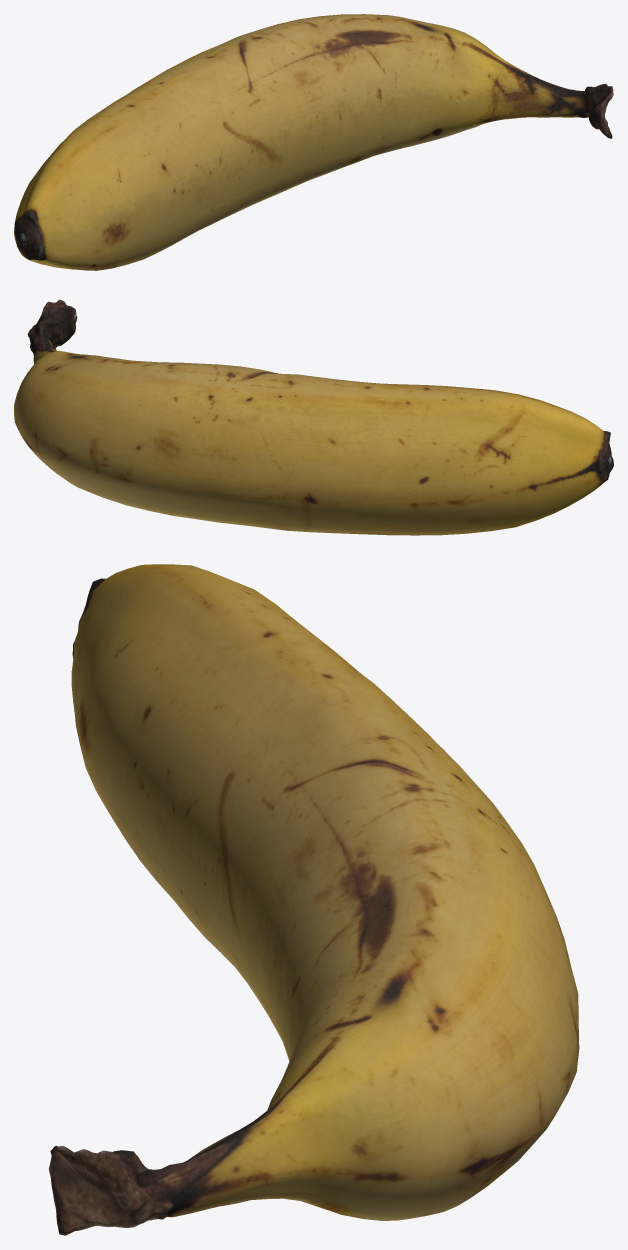
Rendered from banana.glb.
The picture shows the model from 3 angles, top to bottom: view 1: azimuth 30°, elevation 25°; view 2: azimuth 150°, elevation 25°; view 3: azimuth 270°, elevation 25°; orthographic projection. The views are drawn at different scales.
Visible parts, largest first — view 1: banana.001; view 2: banana.001; view 3: banana.001.
Boxes of the visible parts, box(x1,y1,x2,y2) form: banana.001: box(14, 14, 613, 270); banana.001: box(14, 299, 613, 535); banana.001: box(49, 564, 579, 1235).
Bounding box in the file's own units: 0.1863 × 0.044 × 0.0741.
1 material, 1 textured.
